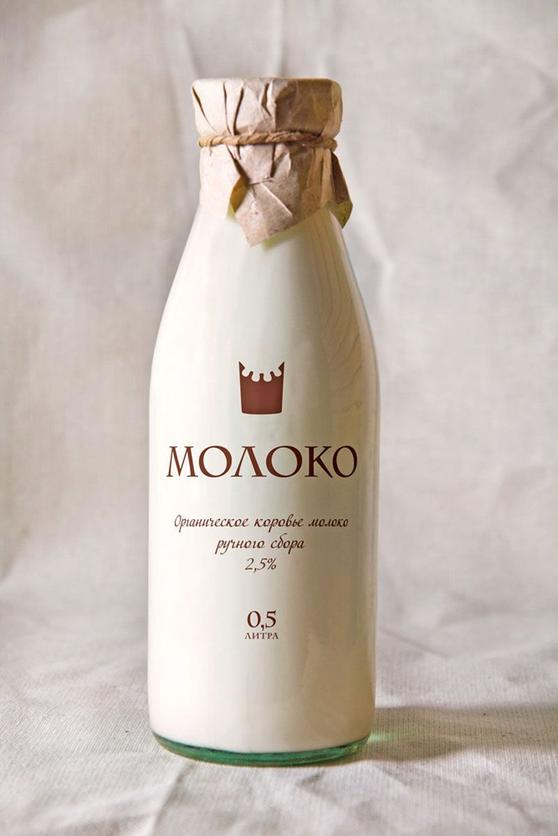milk: (91, 59, 454, 773)
